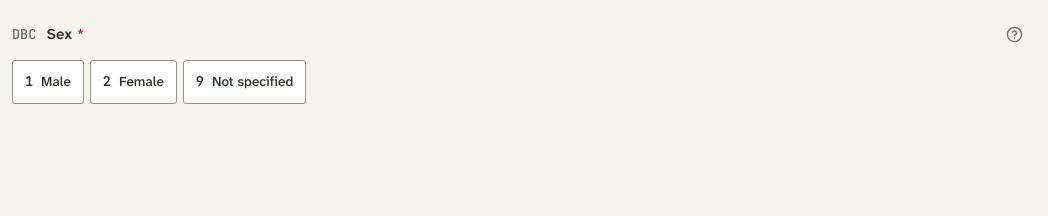
FieldInput — field help popover › closes on a pointer press outside it
The image size is (1048, 216).
Click the button named "show help for DBC" at point(1014, 34), box left=992, top=12, right=1036, bottom=56
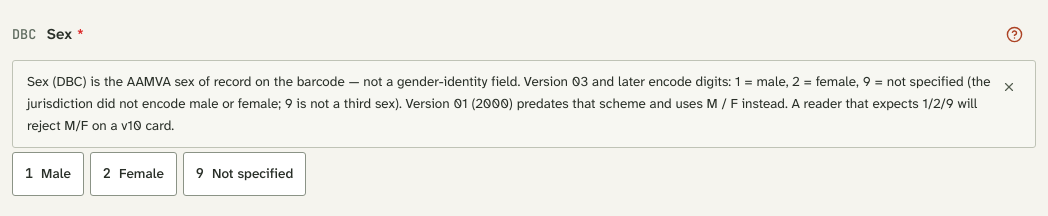
Now the tooltip is shown, box left=12, top=60, right=1036, bottom=148
Press the mouse on the element that starts with "DBC" at point(524, 106), box left=12, top=12, right=1036, bottom=200
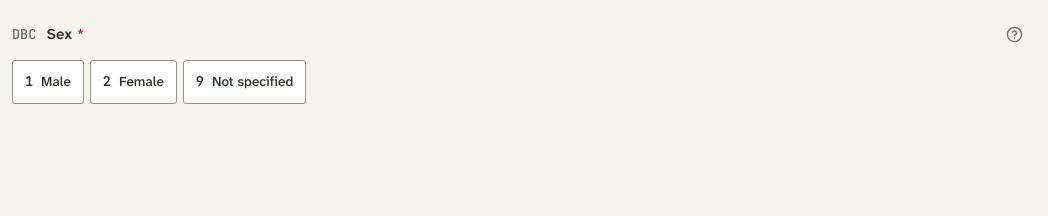
Now the tooltip is gone
